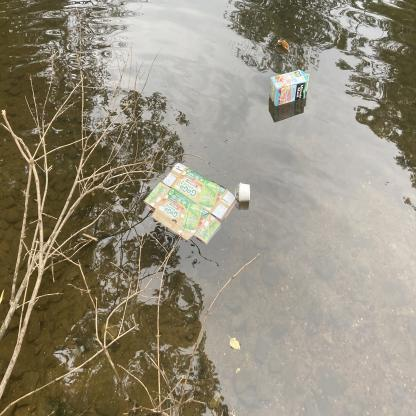trash: (140, 152, 242, 250), (266, 68, 311, 108), (237, 180, 255, 205), (232, 181, 242, 204)
